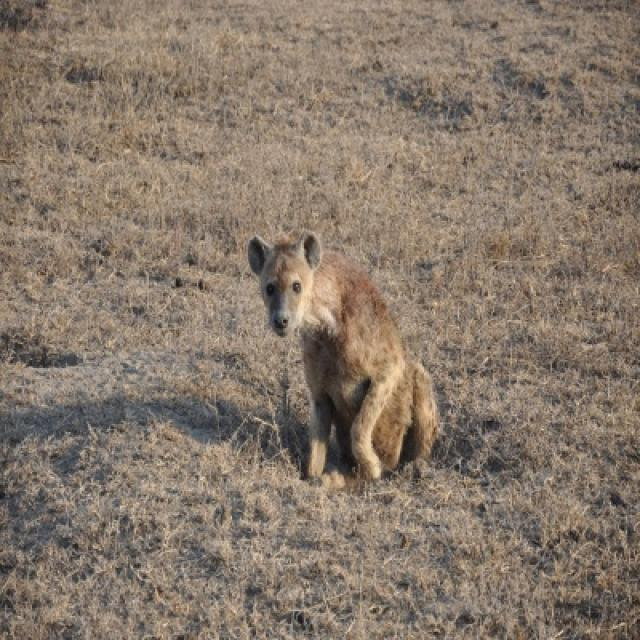hyena: (248, 230, 438, 478)
